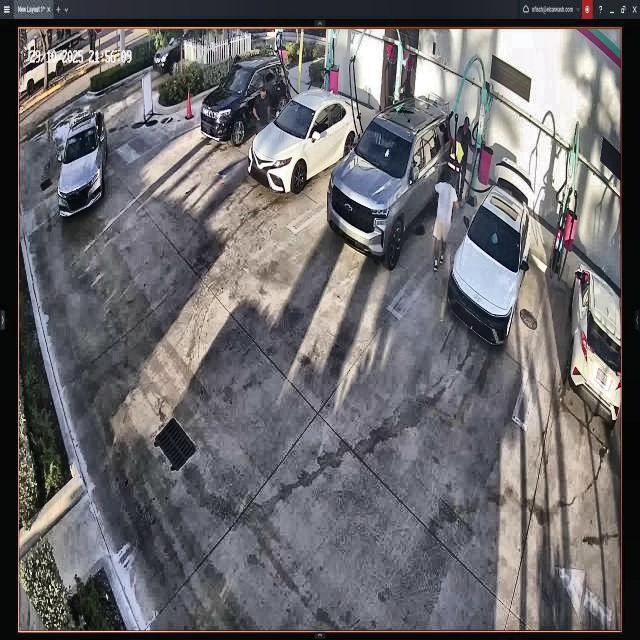Car: (327, 97, 453, 271), (444, 154, 530, 341), (249, 90, 361, 194), (194, 57, 292, 143)
